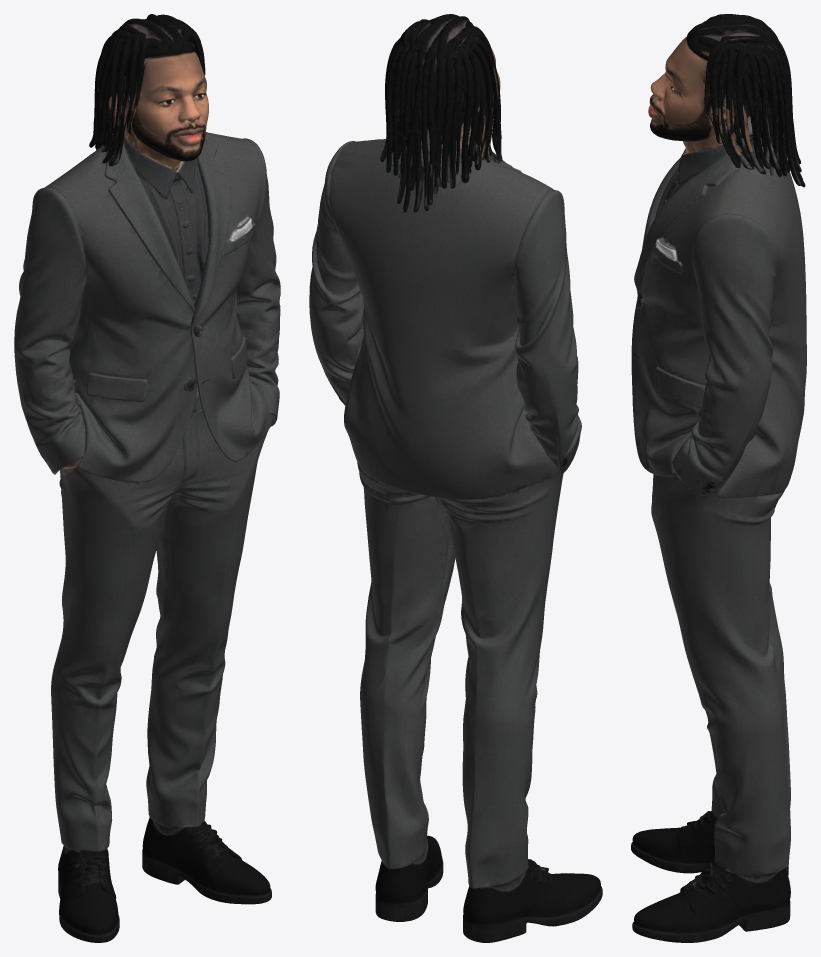
The model's file is marquis-v17.glb.
3 renders of one model, left to right at view 1: azimuth 30°, elevation 25°; view 2: azimuth 150°, elevation 25°; view 3: azimuth 270°, elevation 25°, orthographic. The views are drawn at different scales.
Bounding box in the file's own units: 0.589 × 1.9 × 0.3426.
Materials: 1 (1 with a texture image).
